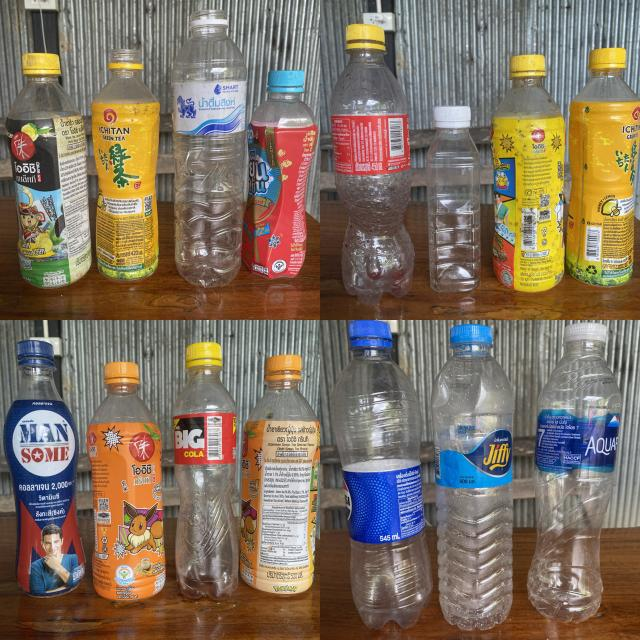plastik: (331, 320, 432, 629), (528, 322, 622, 622), (431, 324, 514, 630), (330, 24, 414, 305), (4, 340, 85, 598), (171, 10, 246, 288), (5, 52, 91, 288), (86, 362, 166, 601), (240, 355, 320, 594), (490, 55, 565, 292), (566, 48, 640, 286), (172, 342, 239, 601), (241, 70, 319, 279), (91, 49, 160, 280), (426, 106, 480, 292)
